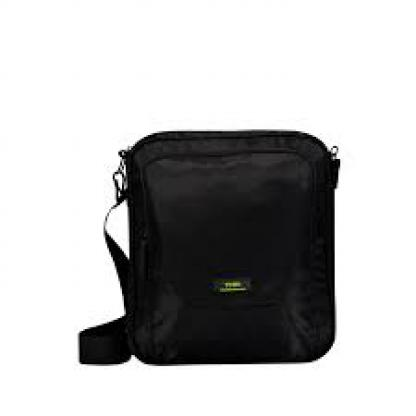morral: (59, 120, 357, 379)
